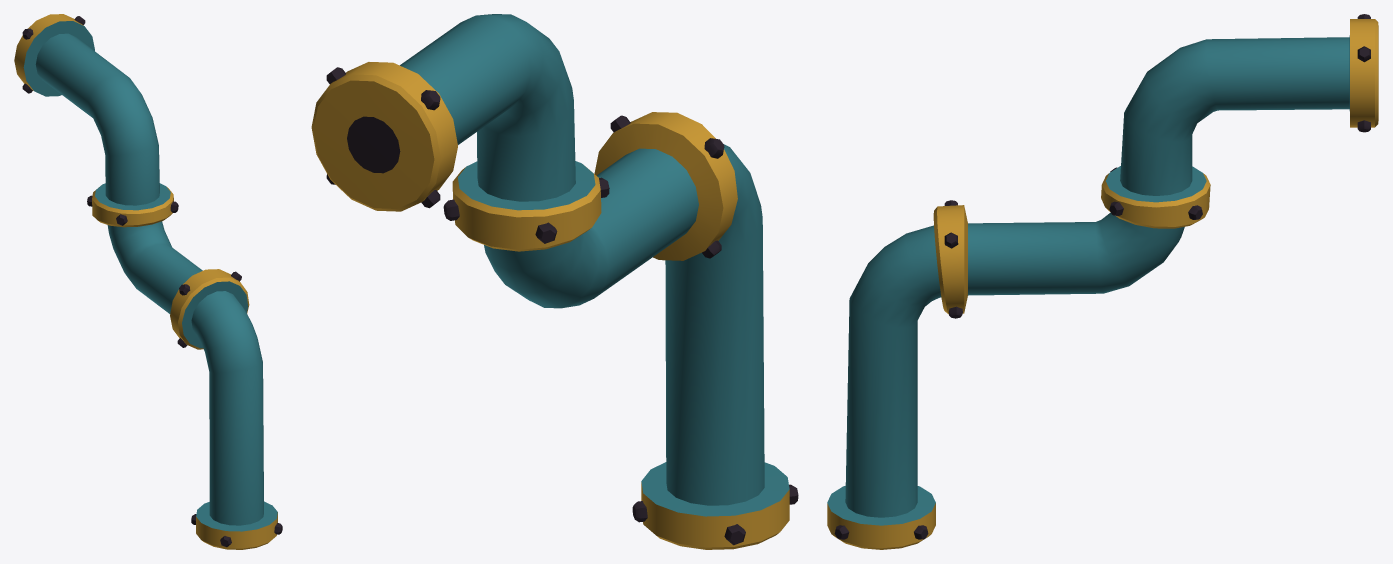
File: PipeRun_04.glb
The picture shows the model from 3 angles, left to right: view 1: azimuth 30°, elevation 25°; view 2: azimuth 150°, elevation 25°; view 3: azimuth 270°, elevation 25°; orthographic projection. The views are drawn at different scales.
Parts seen in each view (by area): view 1: PipeRun_04; view 2: PipeRun_04; view 3: PipeRun_04.
Part boxes in pixels (x1,y1,x2,y2): PipeRun_04: (14, 14, 282, 549); PipeRun_04: (311, 14, 798, 549); PipeRun_04: (827, 14, 1378, 549).
Size of the model in its own units: 1.13 by 5.8 by 5.74.
